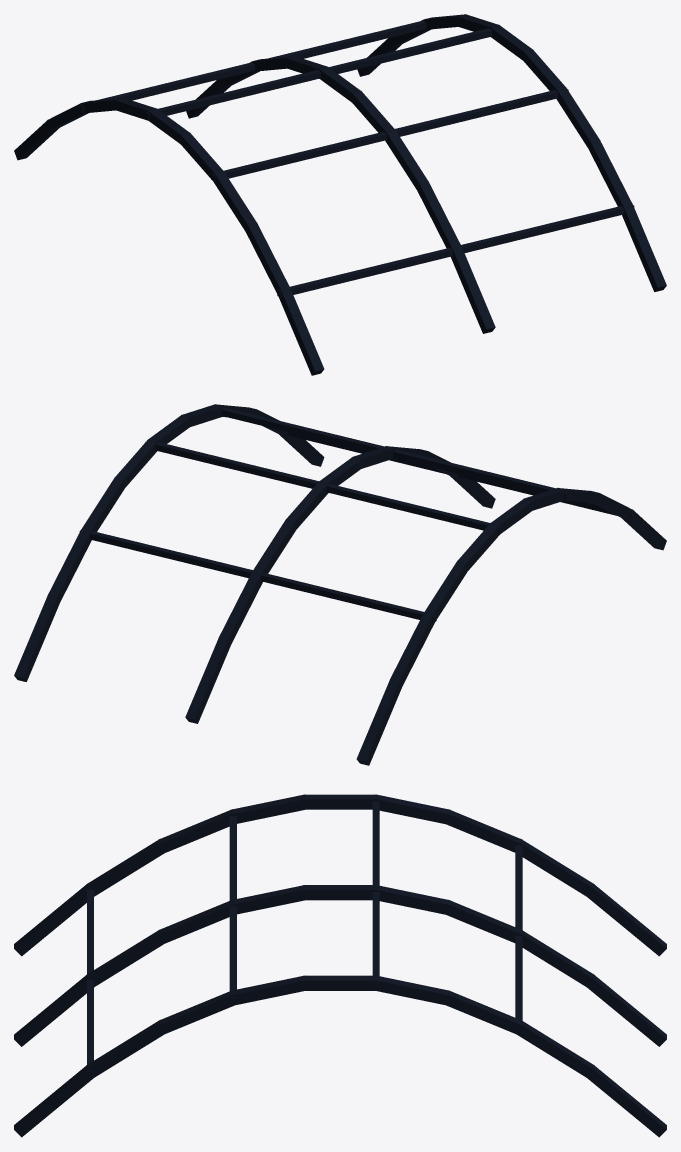
Rendered from bld_gum_ribs.glb.
3 views of the same model, one above another, from view 1: azimuth 30°, elevation 25°; view 2: azimuth 150°, elevation 25°; view 3: azimuth 270°, elevation 25° (orthographic). The views are drawn at different scales.
Parts seen in each view (by area): view 1: bld_gum_ribs; view 2: bld_gum_ribs; view 3: bld_gum_ribs.
Part boxes in pixels (x1=…): bld_gum_ribs: x1=14, y1=14, x2=666, y2=375; bld_gum_ribs: x1=14, y1=404, x2=666, y2=765; bld_gum_ribs: x1=14, y1=794, x2=666, y2=1137.
Size of the model in its own units: 6.2 by 2.43 by 9.14.
1 material, 1 textured.
